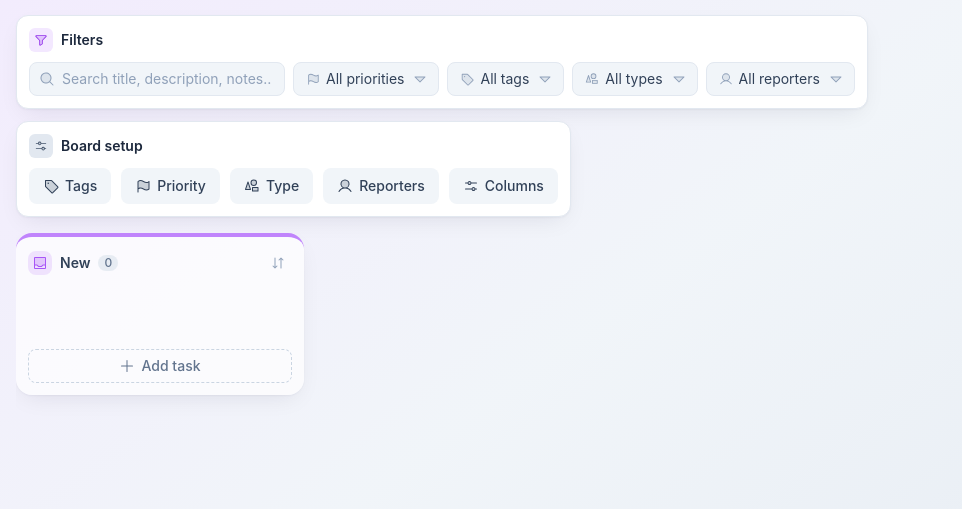
Test: BoardPage › ignores a slow, outdated task list that arrives after a newer one
This screenshot has width=962, height=509.
Type "fresh" into the field named "Search tasks" at (157, 79), box [29, 62, 285, 96]
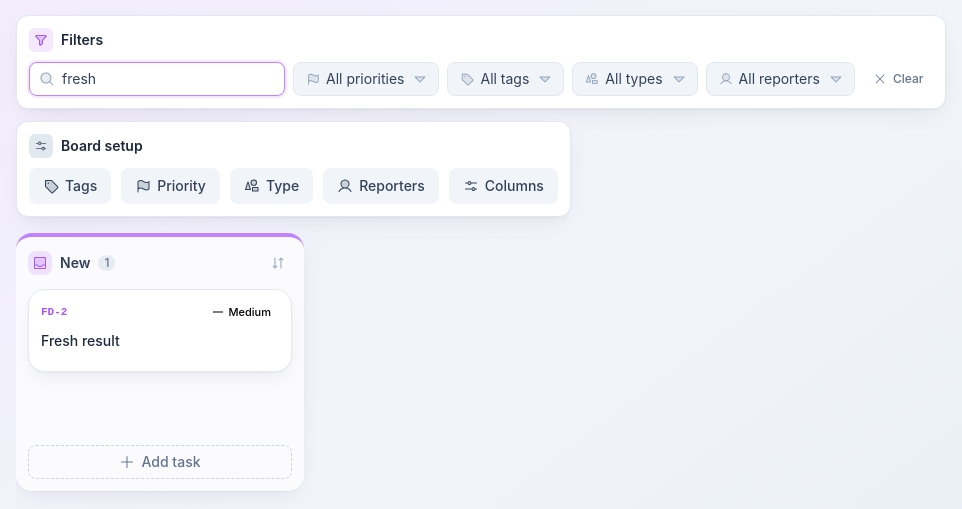
Expected: the text "Fresh result" is shown, [41, 332, 120, 348]
